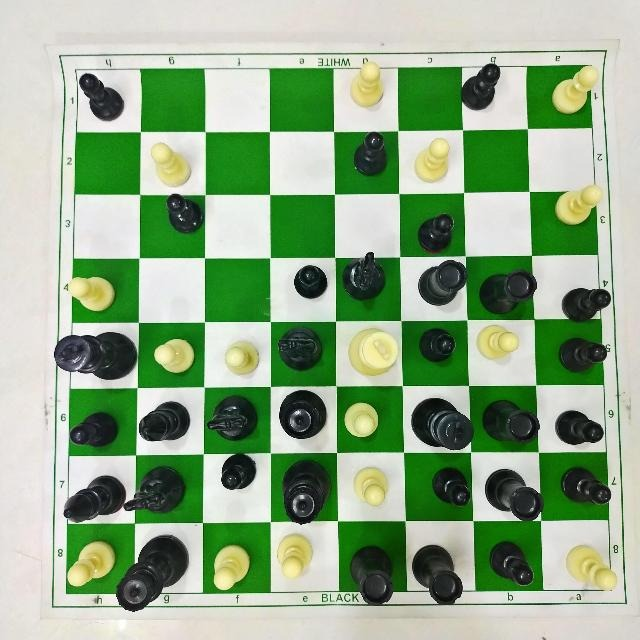black-bishop: (61, 474, 125, 525), (136, 401, 191, 445)
black-king: (49, 331, 137, 381), (410, 396, 477, 456)
black-knight: (123, 465, 189, 515), (207, 393, 259, 442), (339, 250, 386, 302), (276, 325, 324, 374)
black-pawn: (79, 71, 131, 123), (486, 537, 535, 585), (458, 61, 503, 112), (558, 466, 612, 506), (556, 335, 610, 372), (560, 286, 612, 324), (69, 409, 119, 448), (554, 407, 606, 444), (351, 128, 387, 179), (432, 465, 472, 508), (416, 212, 457, 252), (164, 192, 203, 232), (218, 451, 257, 490), (418, 328, 458, 360), (293, 262, 328, 298)
black-queen: (115, 533, 190, 613), (280, 459, 333, 526), (278, 388, 328, 439)
black-rook: (410, 542, 463, 608), (484, 467, 544, 522), (347, 544, 397, 608), (476, 266, 537, 316), (483, 397, 541, 445), (417, 257, 469, 308)
white-king: (347, 326, 400, 376)
white-pawn: (561, 538, 622, 592), (548, 62, 602, 115), (67, 532, 115, 591), (335, 62, 391, 112), (206, 536, 256, 591), (273, 530, 321, 582), (411, 135, 455, 187), (555, 183, 607, 227), (147, 140, 194, 188), (150, 334, 200, 378), (215, 336, 266, 379), (67, 273, 119, 313), (473, 323, 520, 364), (350, 462, 392, 507), (341, 398, 383, 442)
